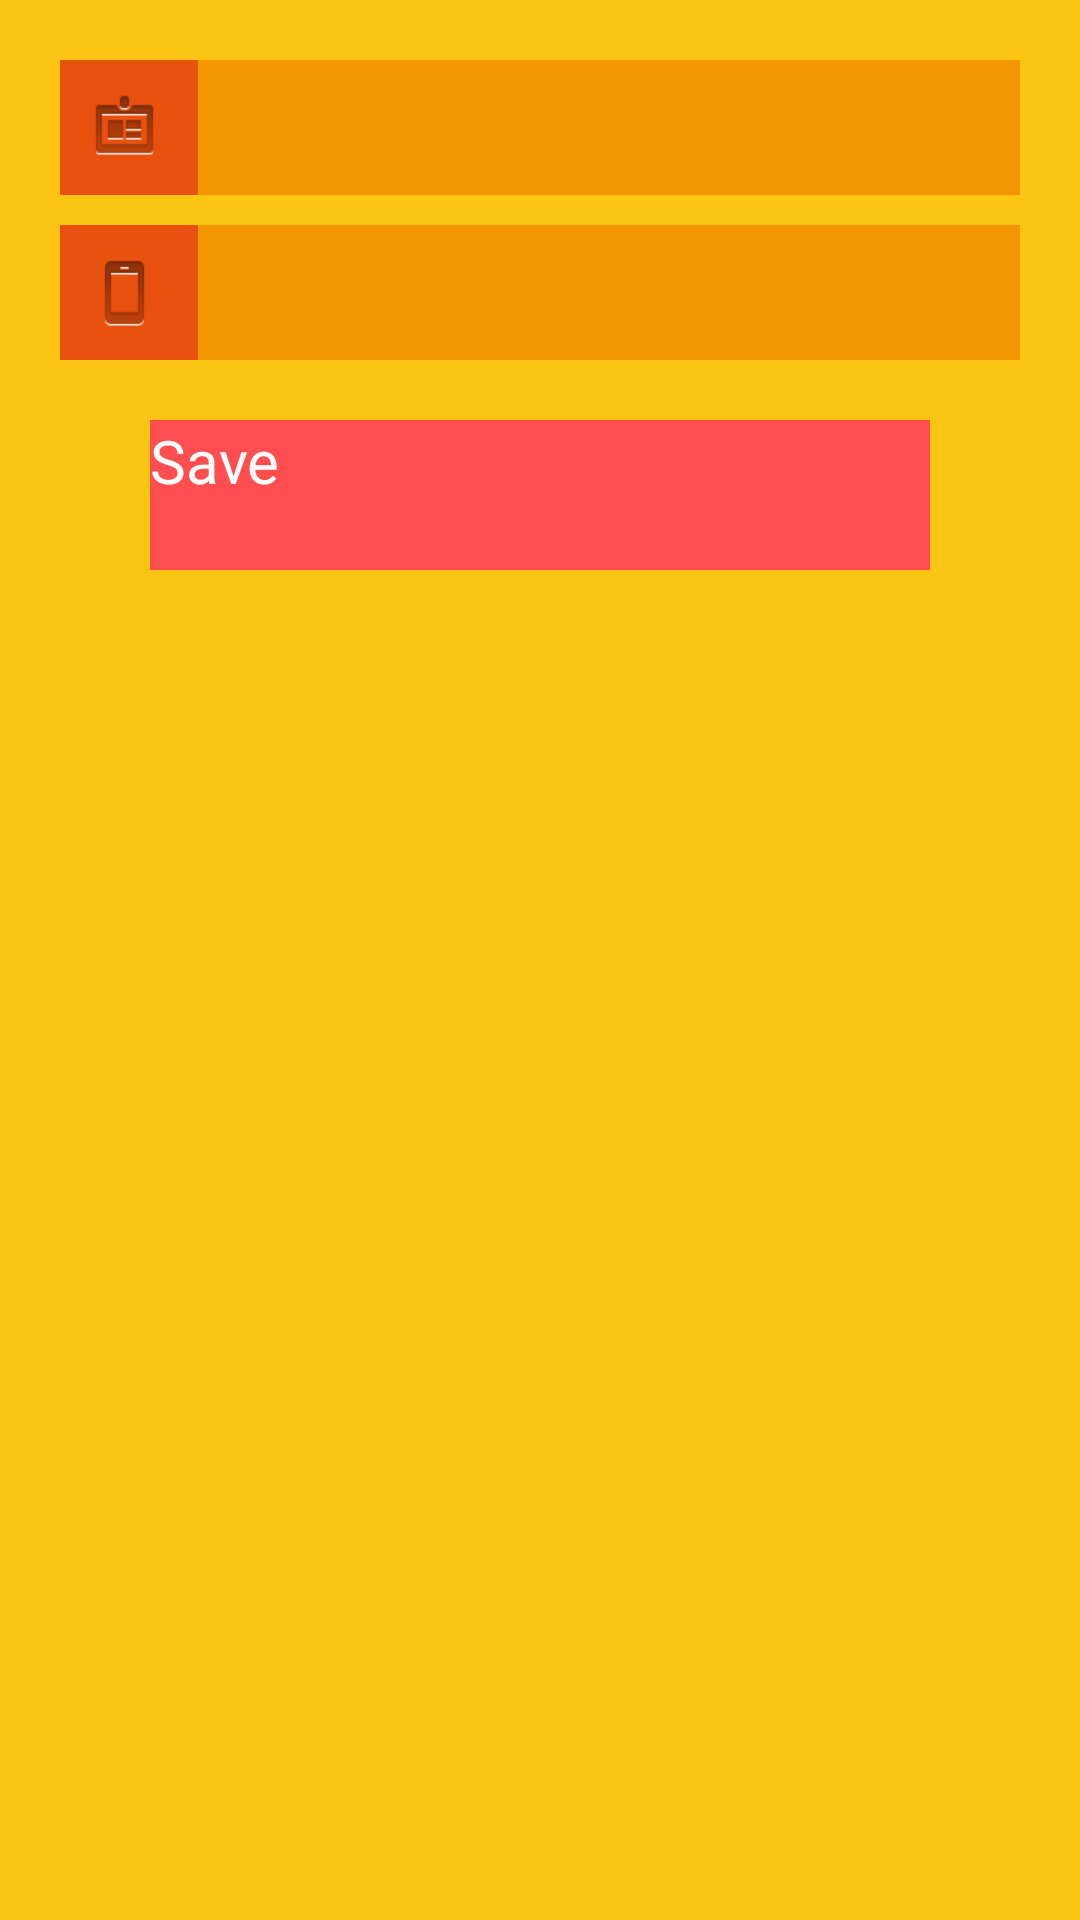

Icons on this 1080px x 1920px Android screen, each with the point to tap as (x,y):
accounts glyph name: (124,125)
accounts glyph phone: (124,293)
